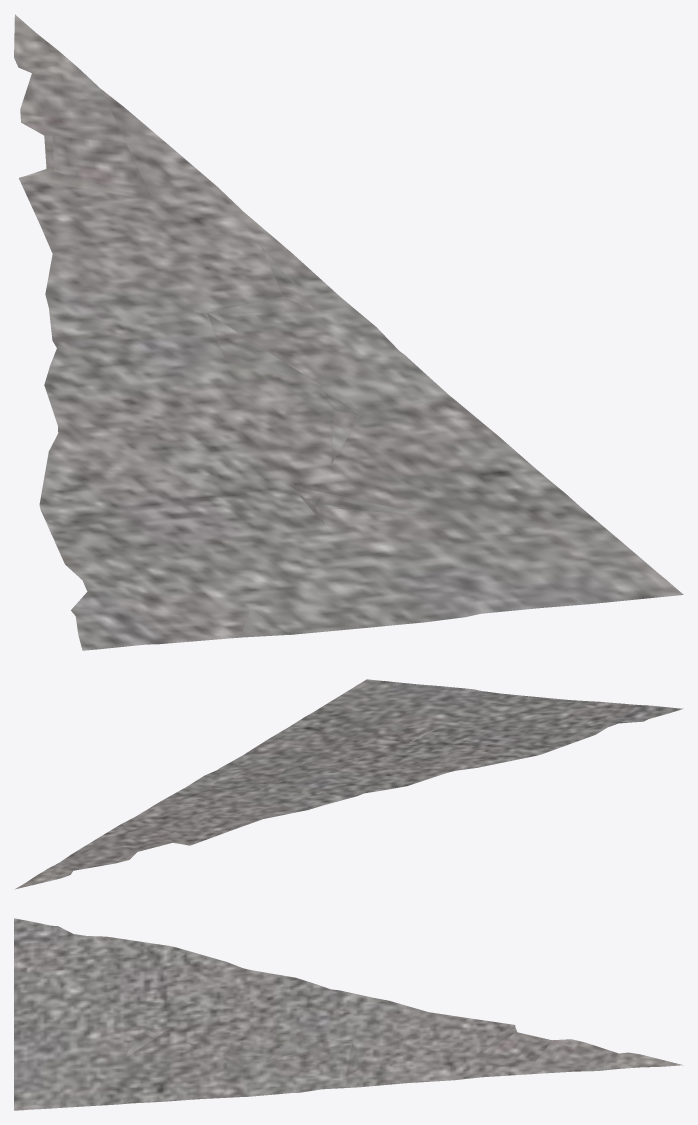
3 renders of one model, top to bottom at view 1: azimuth 30°, elevation 25°; view 2: azimuth 150°, elevation 25°; view 3: azimuth 270°, elevation 25°, orthographic. The views are drawn at different scales.
Size of the model in its own units: 0.6683 by 0.0965 by 1.29.
1 material, 1 textured.
